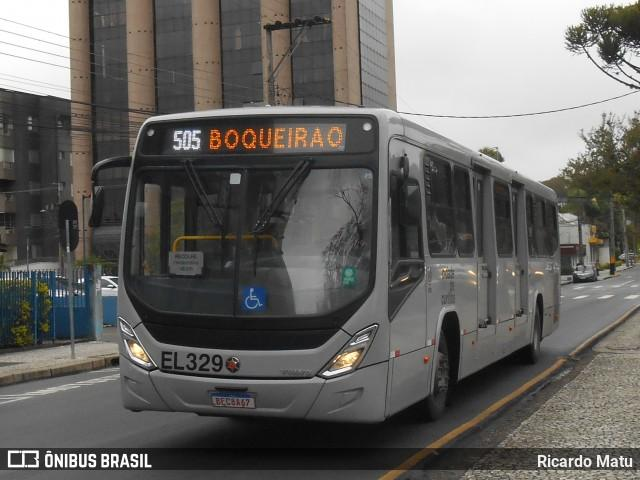BOQUEIRAO: (206, 123, 347, 153)
